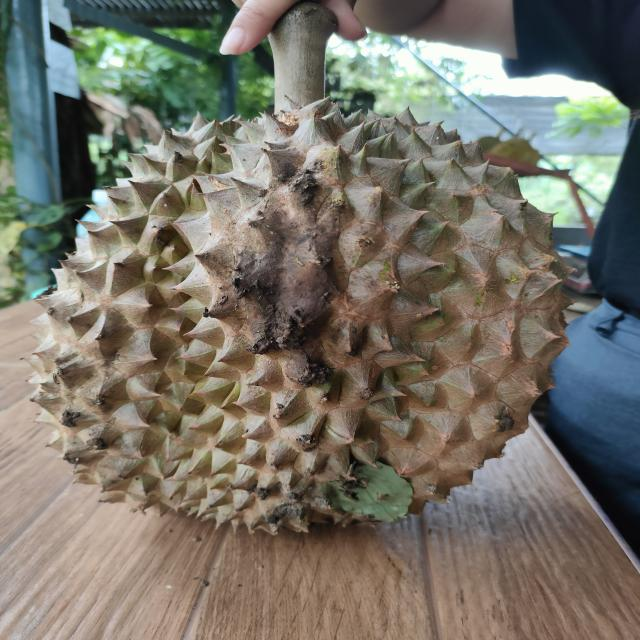defective: (24, 100, 576, 556)
